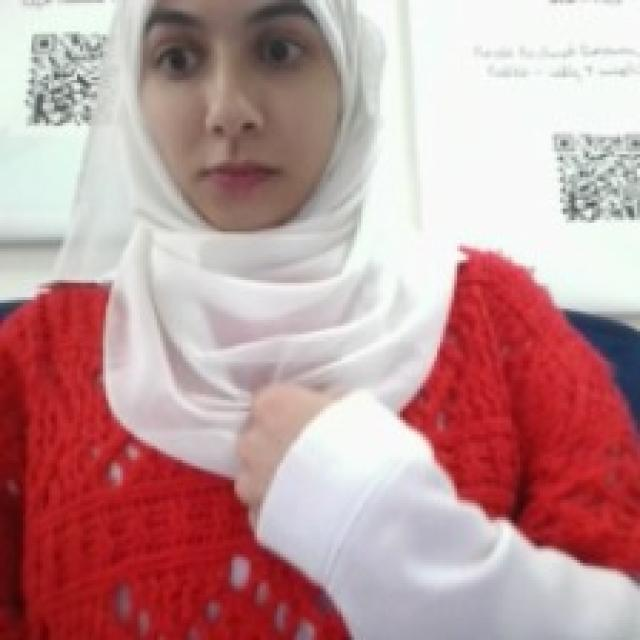me: (227, 371, 367, 545)
